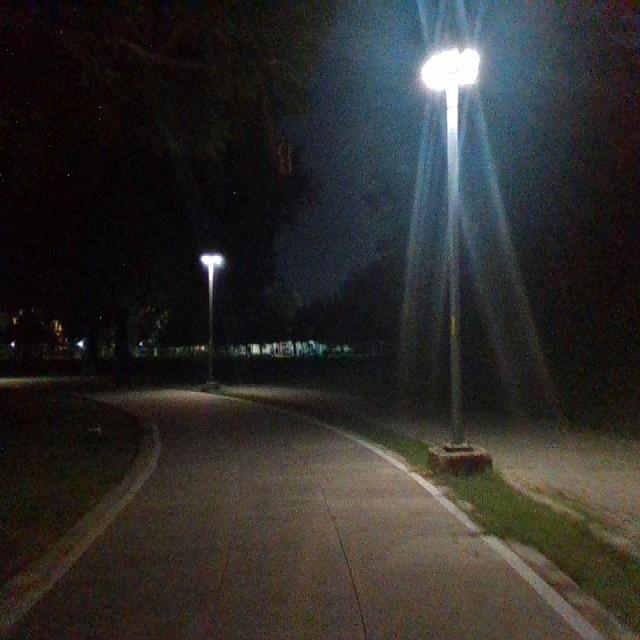lane: (9, 390, 590, 640)
